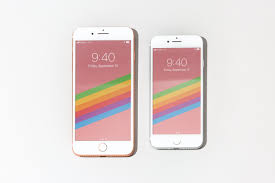iphone: (67, 28, 141, 158), (146, 31, 205, 150)
iphone8: (67, 28, 141, 158), (149, 31, 208, 150)
